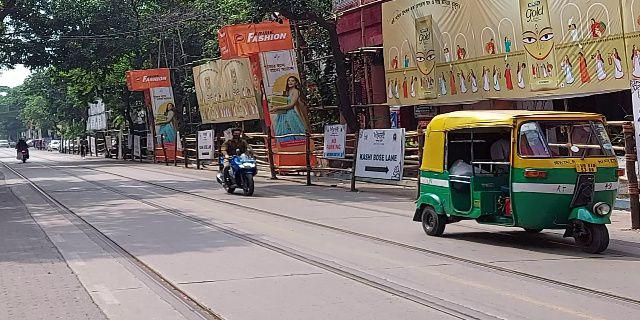Autorickshaw: (410, 103, 622, 254)
Motorbike: (214, 128, 258, 196)
